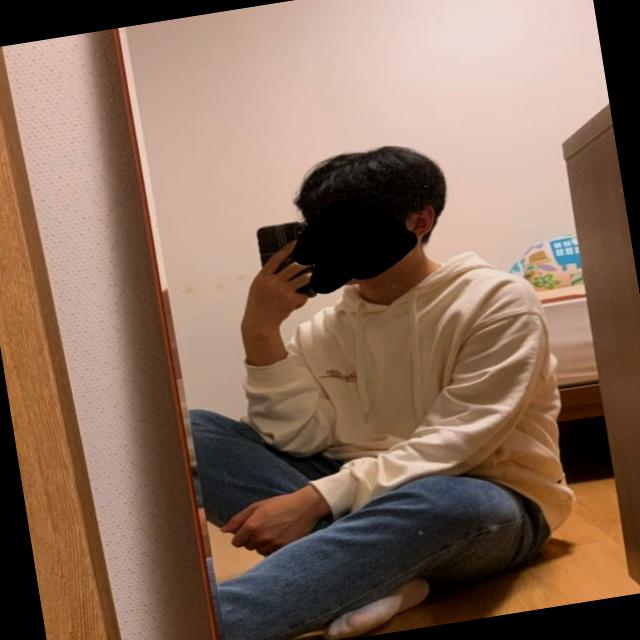denimpants: (188, 358, 559, 640)
hoodies: (223, 223, 586, 585)
